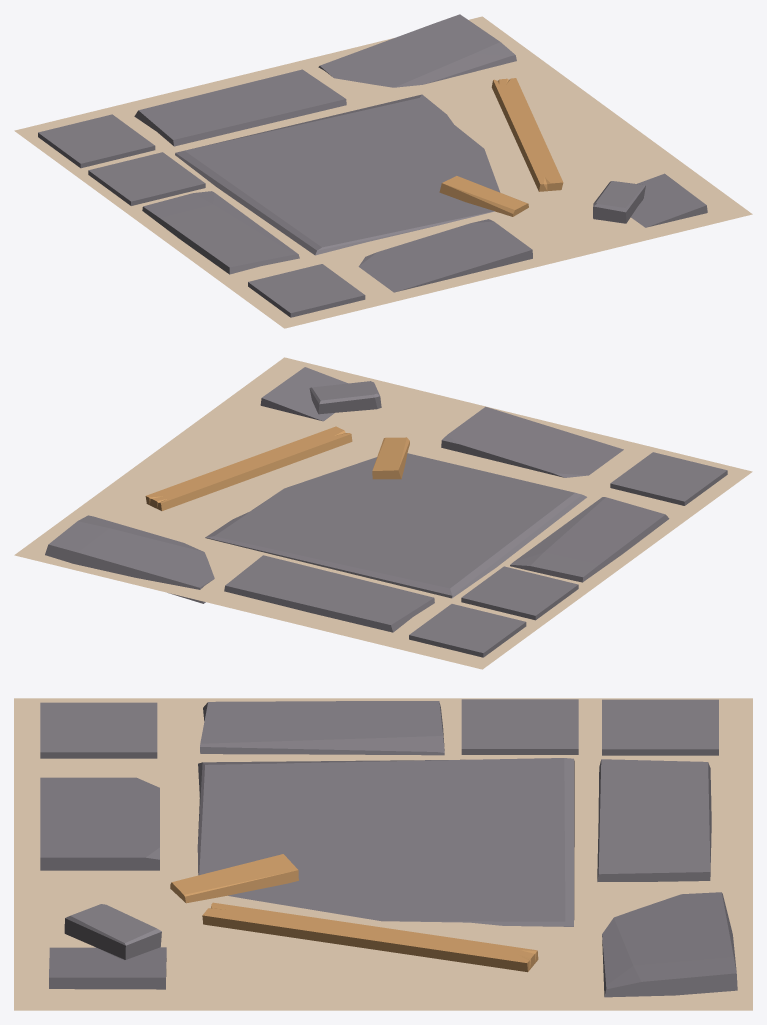
File: ground_tiles_1.fbx
3 renders of one model, top to bottom at view 1: azimuth 30°, elevation 25°; view 2: azimuth 150°, elevation 25°; view 3: azimuth 270°, elevation 25°, orthographic. The views are drawn at different scales.
Visible parts, largest first — view 1: Ground_Tile_1; view 2: Ground_Tile_1; view 3: Ground_Tile_1.
Boxes of the visible parts, <box> form: Ground_Tile_1: <box>14,14,752,328</box>; Ground_Tile_1: <box>14,357,752,669</box>; Ground_Tile_1: <box>14,698,752,1010</box>.
Size of the model in its own units: 1200 by 81.09 by 1200.
